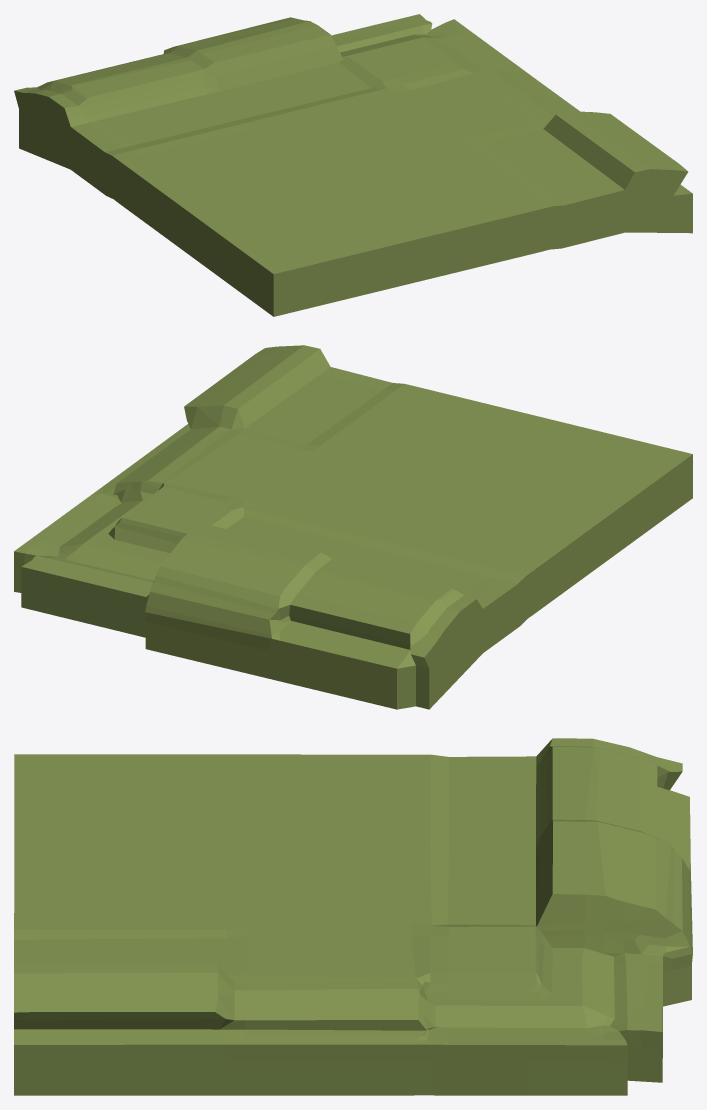
File: corner_01.fbx
3 views of the same model, one above another, from view 1: azimuth 30°, elevation 25°; view 2: azimuth 150°, elevation 25°; view 3: azimuth 270°, elevation 25° (orthographic). The views are drawn at different scales.
Visible parts, largest first — view 1: corner; view 2: corner; view 3: corner.
Part boxes in pixels (x1,y1,x2,y2): corner: (14, 14, 692, 316); corner: (14, 345, 692, 709); corner: (14, 738, 692, 1095).
Bounding box in the file's own units: 67.22 × 12.66 × 73.38.
